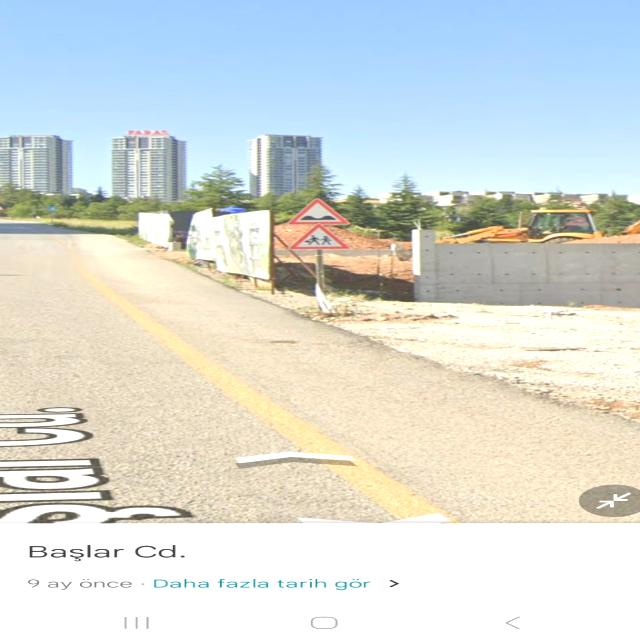okul_gecidi: (288, 223, 352, 249)
